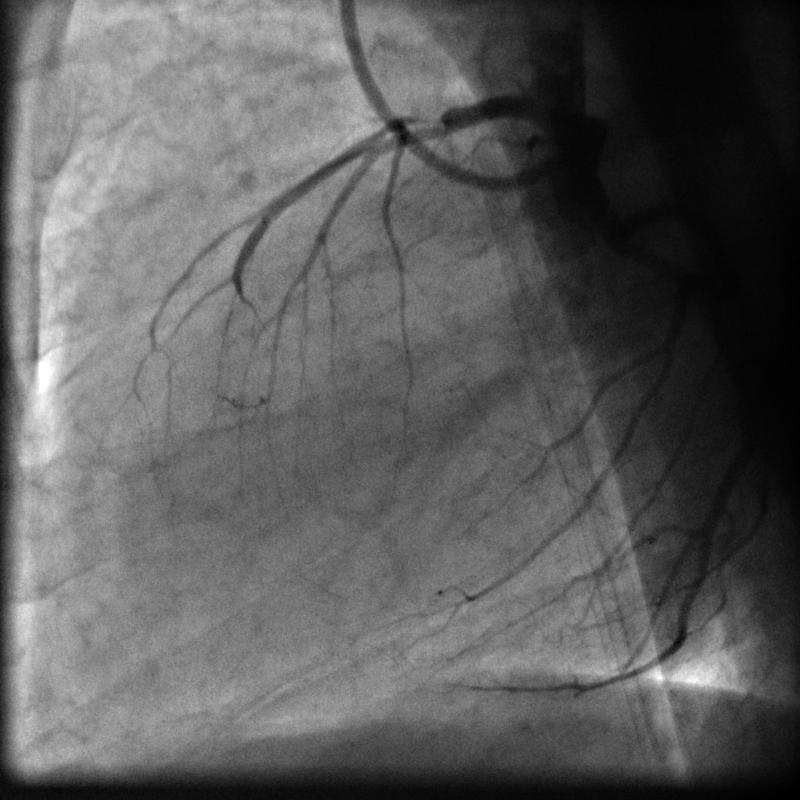Stenosis: (402, 110, 455, 147)
